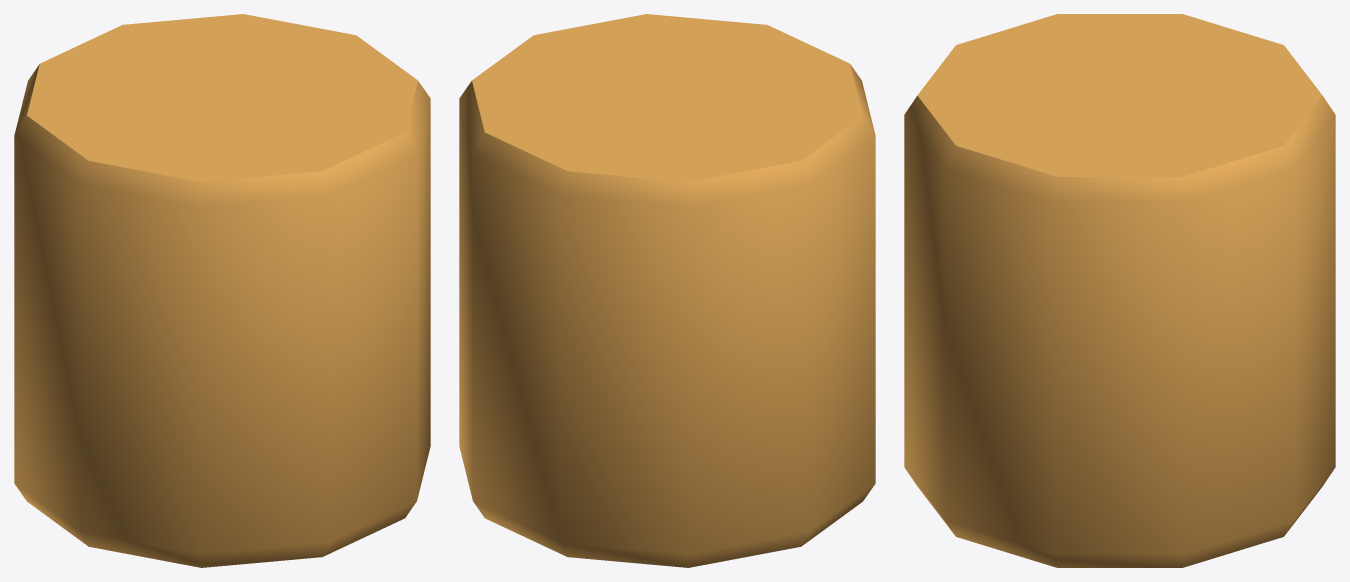
The picture shows the model from 3 angles, left to right: view 1: azimuth 30°, elevation 25°; view 2: azimuth 150°, elevation 25°; view 3: azimuth 270°, elevation 25°; orthographic projection.
Parts seen in each view (by area): view 1: Cylinder_03; view 2: Cylinder_03; view 3: Cylinder_03.
Part boxes in pixels (x1=…): Cylinder_03: x1=14, y1=14, x2=430, y2=567; Cylinder_03: x1=459, y1=14, x2=875, y2=567; Cylinder_03: x1=904, y1=14, x2=1335, y2=567.
Bounding box in the file's own units: 304 × 320 × 320.
